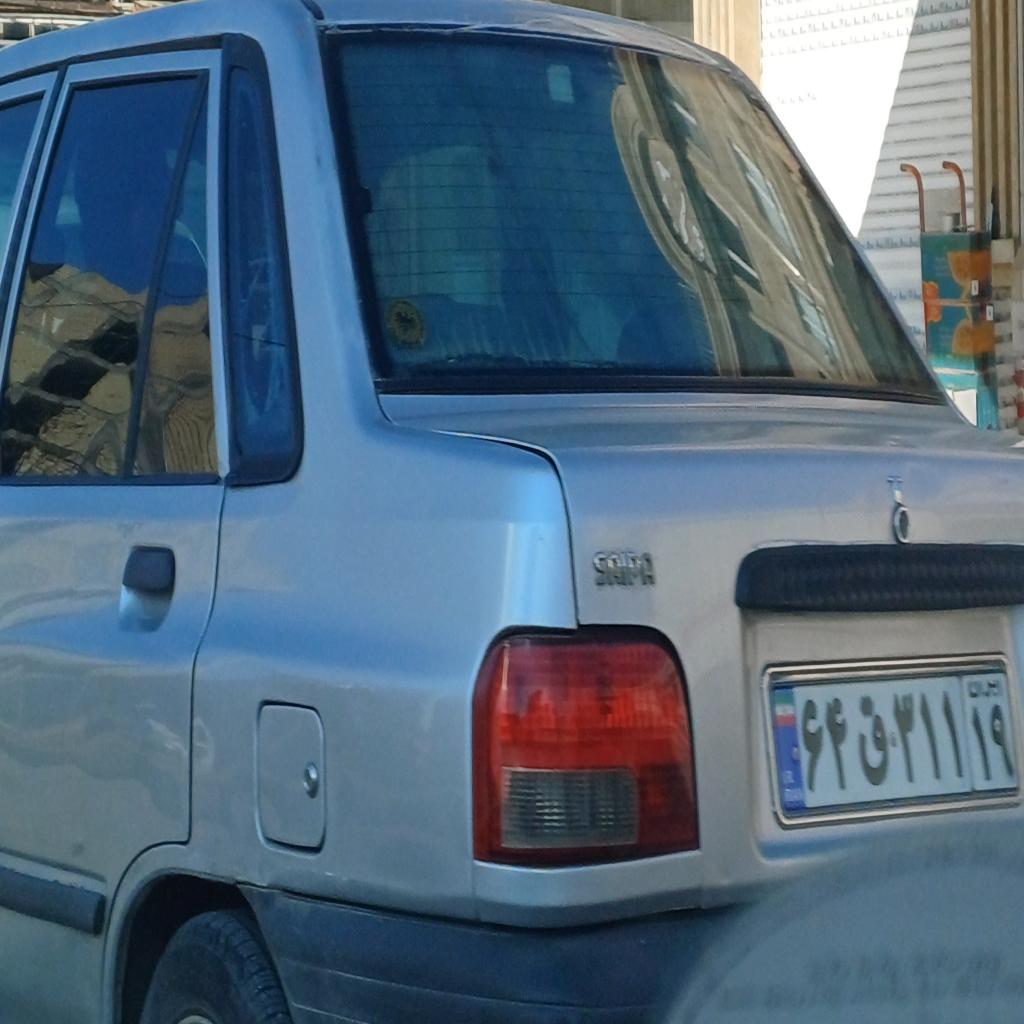Plates: (767, 668, 1020, 810)
